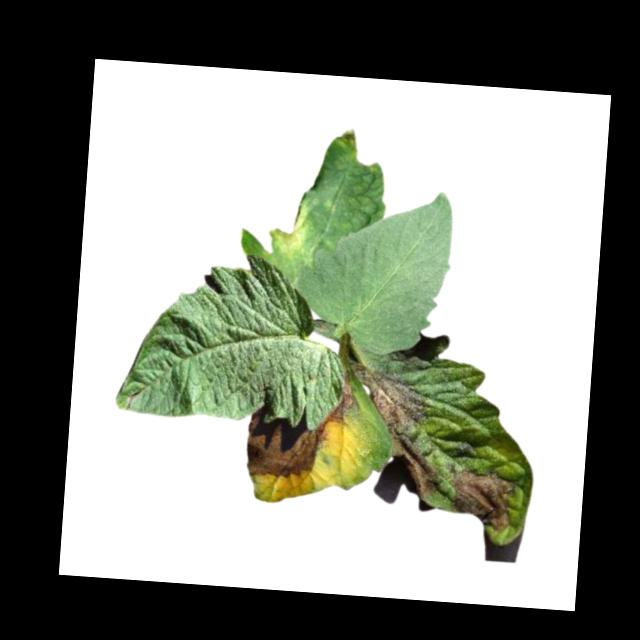Late_blight: (336, 357, 447, 501), (243, 413, 326, 482), (444, 466, 516, 533), (267, 196, 308, 261), (327, 368, 355, 423), (331, 126, 358, 151)
healthy: (112, 244, 354, 431), (289, 181, 456, 359)
